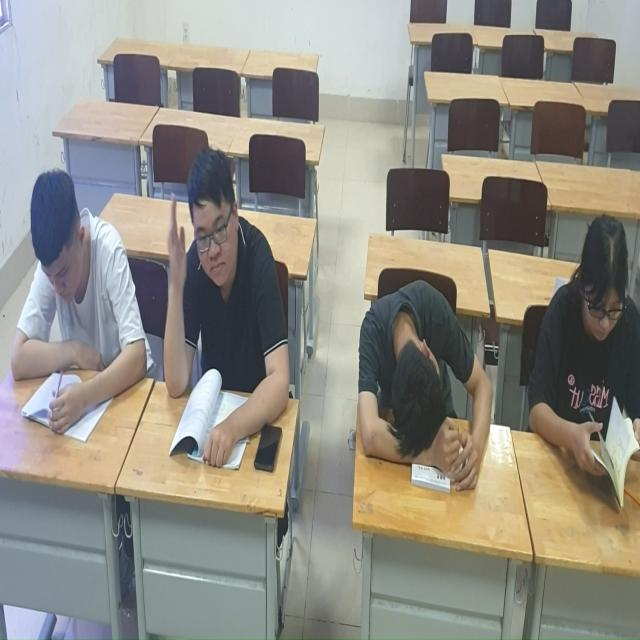raise_hand: (157, 138, 297, 457)
read: (7, 157, 144, 441), (514, 204, 640, 502)
sleep: (343, 282, 500, 488)
